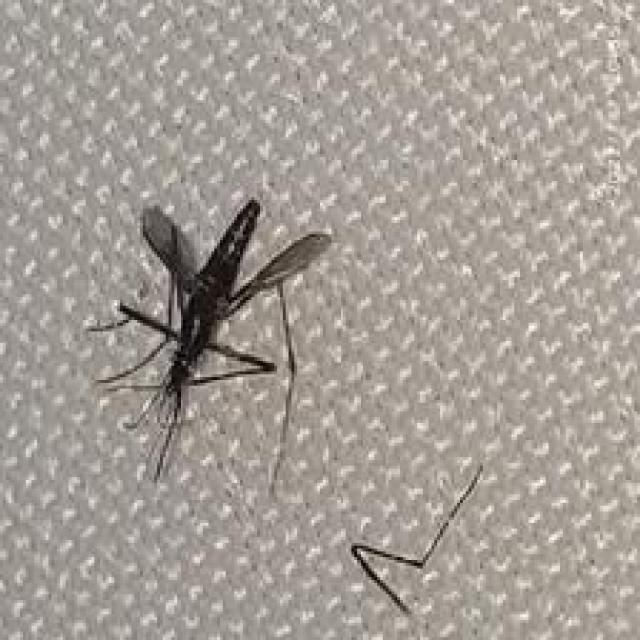Aedes albopictus: (86, 196, 331, 484)
